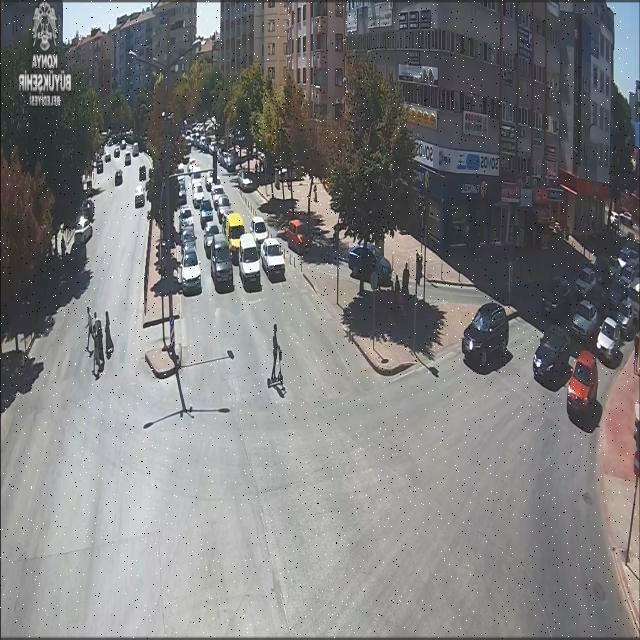Car: (462, 303, 508, 367), (532, 332, 574, 387), (566, 350, 599, 417), (348, 245, 393, 286), (595, 316, 626, 361), (237, 234, 262, 288), (210, 238, 234, 290), (570, 300, 600, 340), (260, 238, 287, 280), (180, 248, 202, 295), (279, 219, 309, 253), (614, 306, 639, 342), (220, 208, 242, 243), (551, 275, 578, 303), (574, 264, 598, 294), (606, 282, 630, 308), (203, 223, 221, 257), (250, 216, 270, 246), (617, 247, 639, 270), (592, 255, 612, 280), (74, 217, 93, 243), (618, 263, 638, 287), (216, 198, 233, 224), (182, 233, 198, 260), (236, 172, 256, 192), (180, 222, 197, 245), (178, 206, 194, 230), (606, 256, 624, 276), (191, 183, 205, 208), (200, 204, 214, 229), (211, 184, 226, 207), (176, 178, 188, 204), (134, 184, 146, 208), (82, 198, 95, 220), (618, 212, 634, 228), (220, 152, 233, 168), (609, 211, 621, 228), (187, 158, 199, 174), (204, 172, 214, 190), (115, 170, 123, 186), (124, 152, 132, 166), (139, 165, 146, 181), (96, 159, 103, 173), (132, 142, 139, 156), (114, 146, 120, 158), (120, 140, 127, 150), (104, 152, 111, 162)
